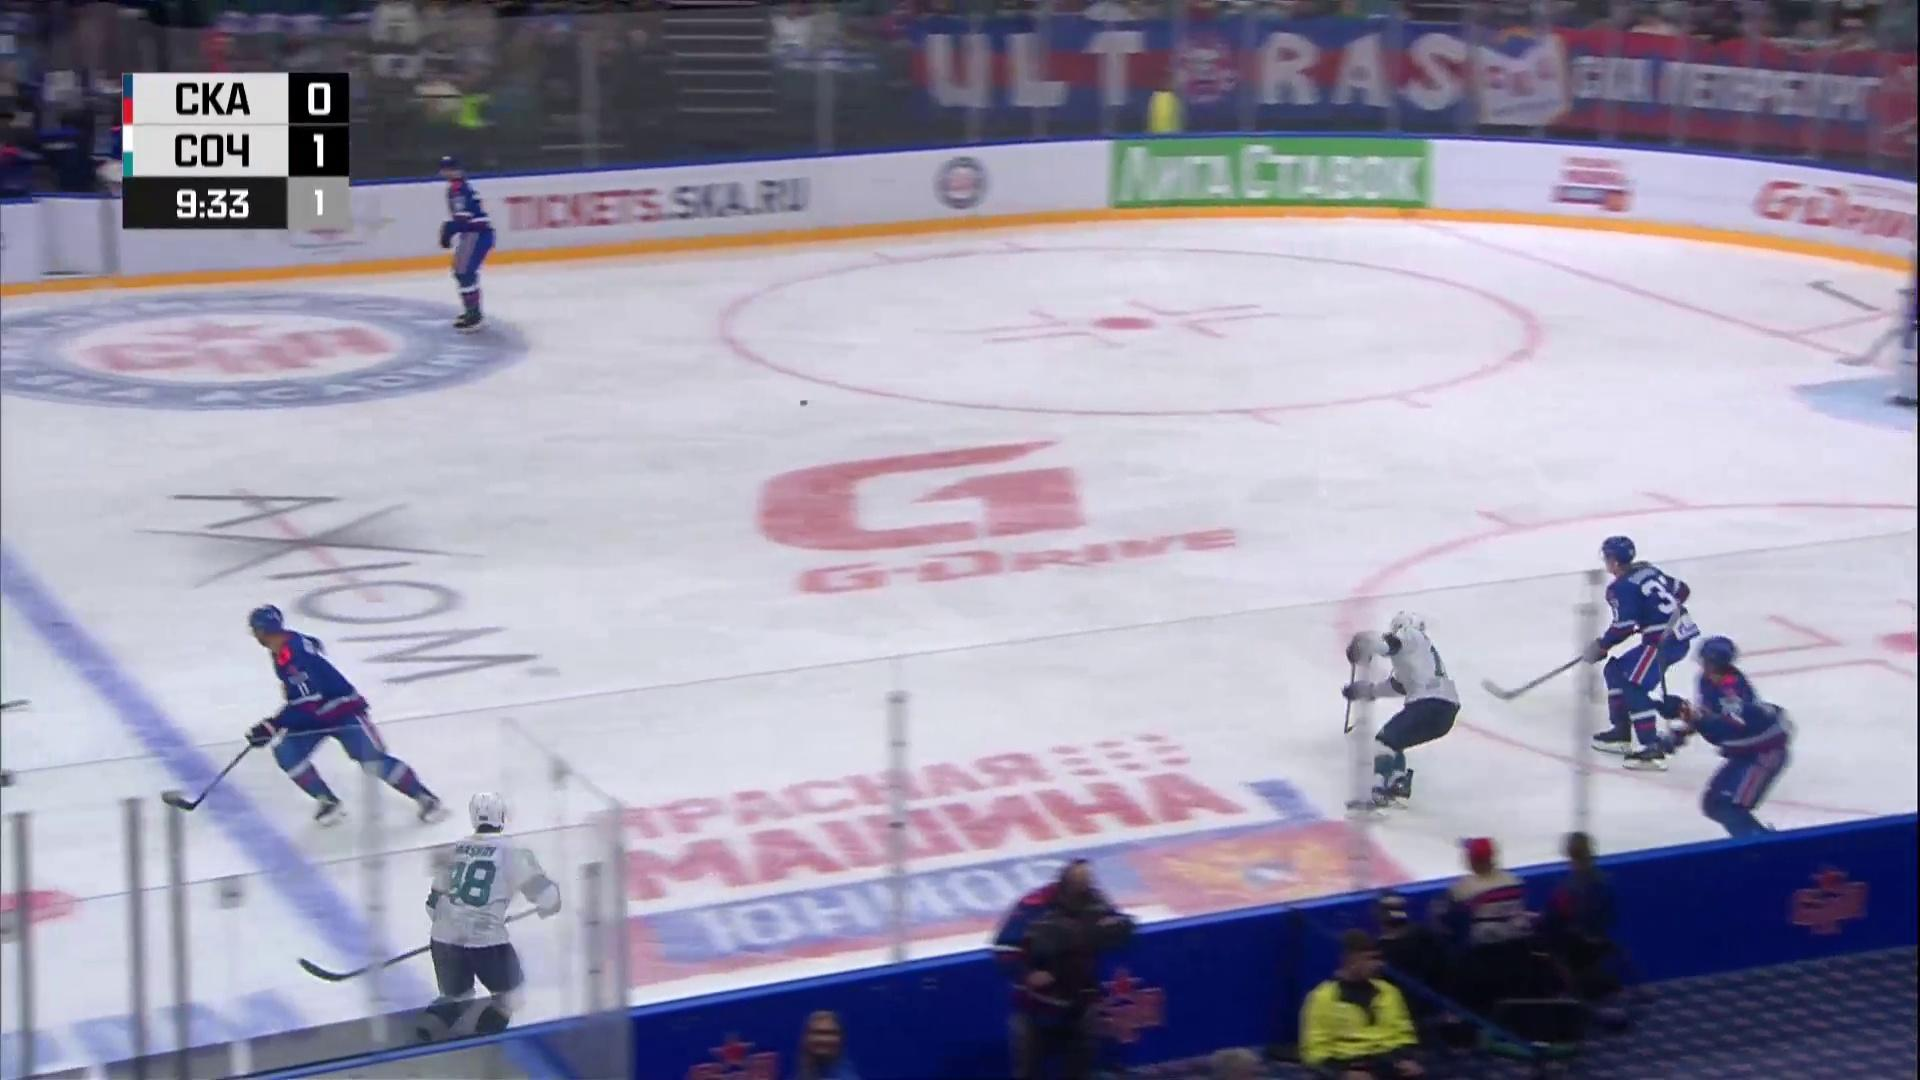ball: (799, 400, 808, 407)
